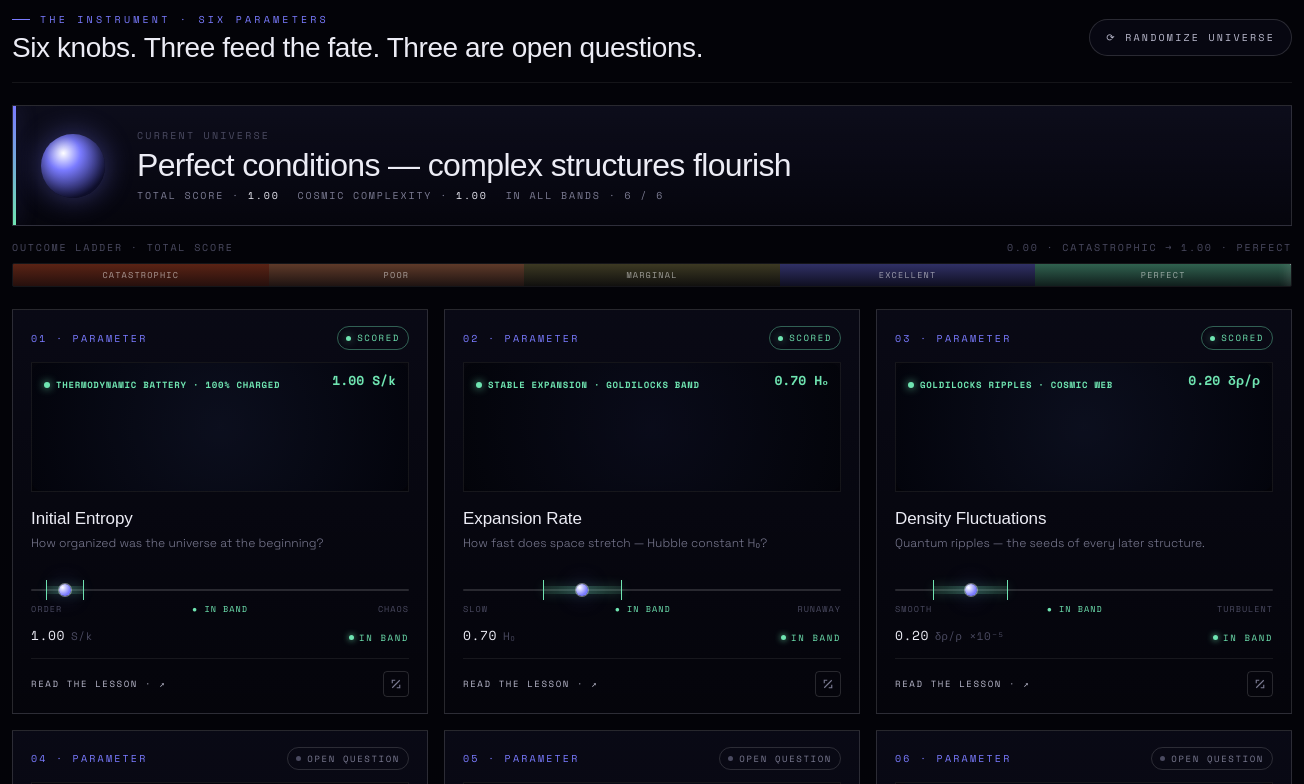
Test: Instrument (Beginning lab) › starts in every band and randomizes then undoes
Check: the text "In all bands · 6 / 6" is shown, box x1=506 y1=188 x2=664 y2=203
Check: the button "undo" is not shown
Click the button "⟳ Randomize universe" at (1191, 38), box x1=1089 y1=19 x2=1292 y2=56
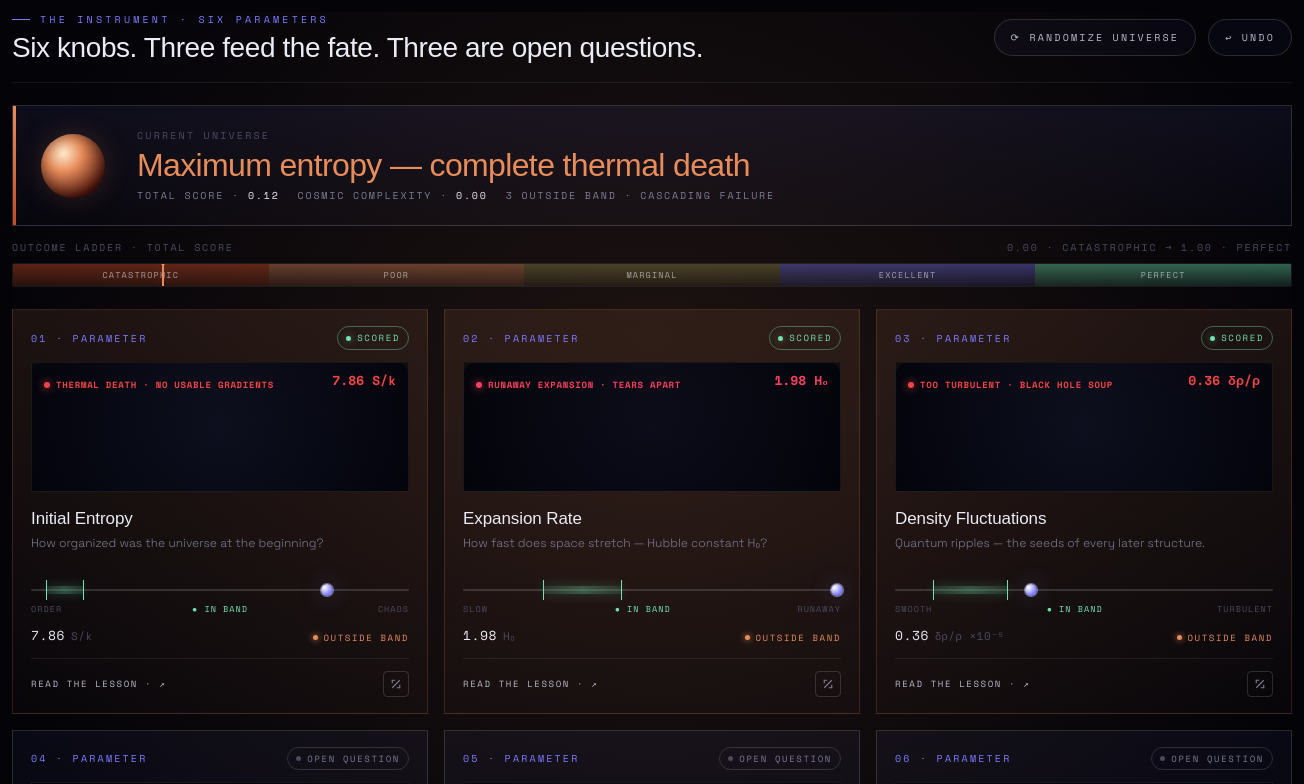
Check: the button "↩ Undo" is shown
Click the button "↩ Undo" at (1250, 38), box x1=1208 y1=19 x2=1292 y2=56
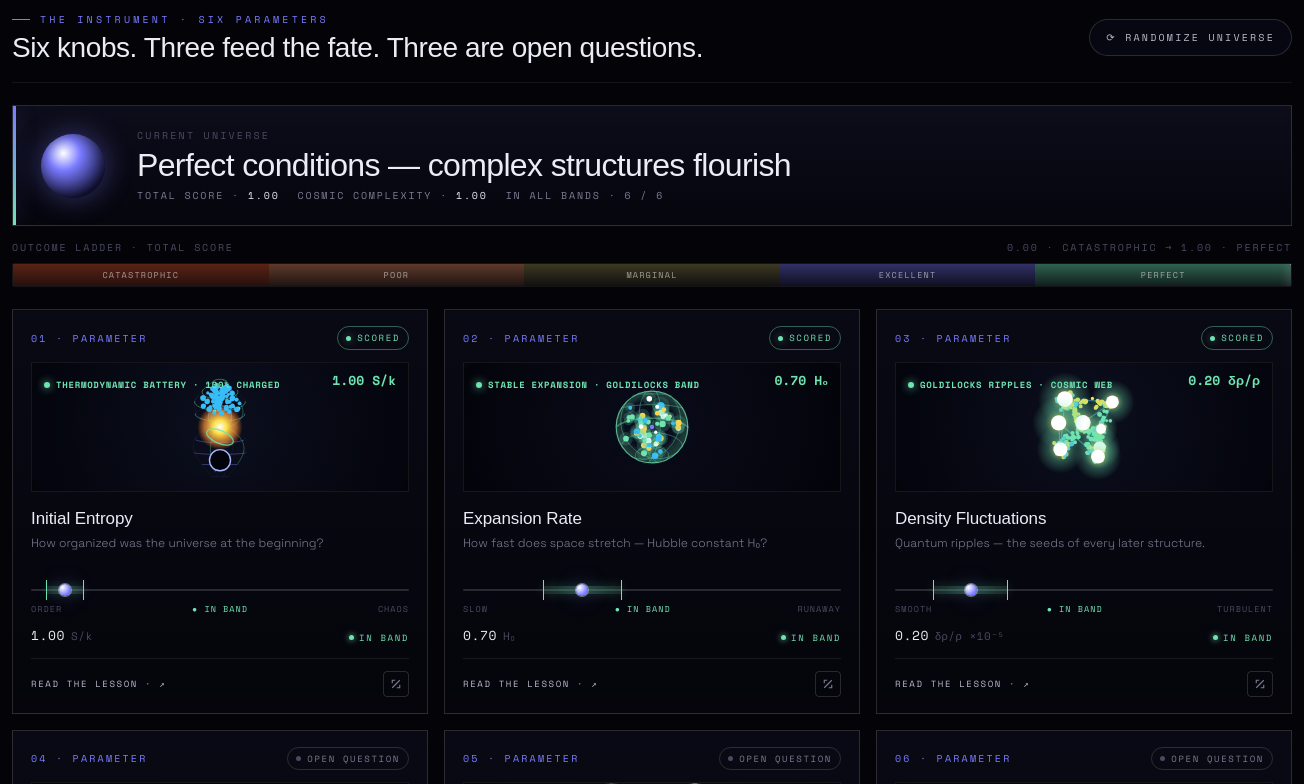
Check: the button "Undo" is gone
Check: the text "In all bands · 6 / 6" is shown, box x1=506 y1=188 x2=664 y2=203
